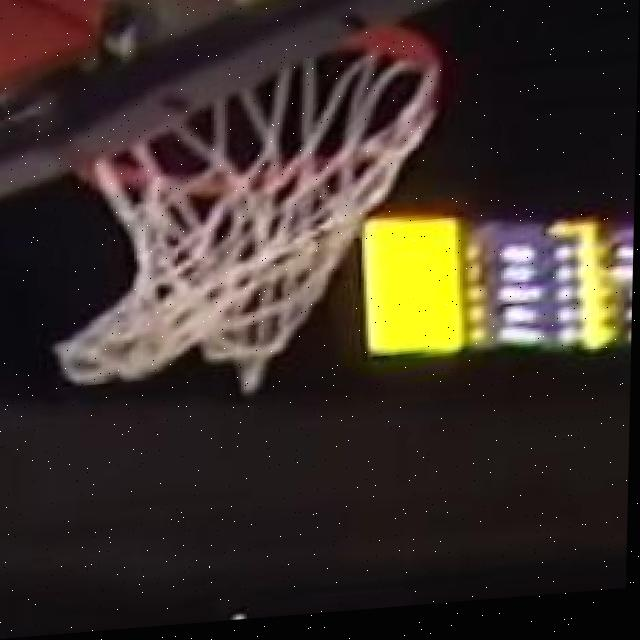hoop: (199, 0, 437, 382)
